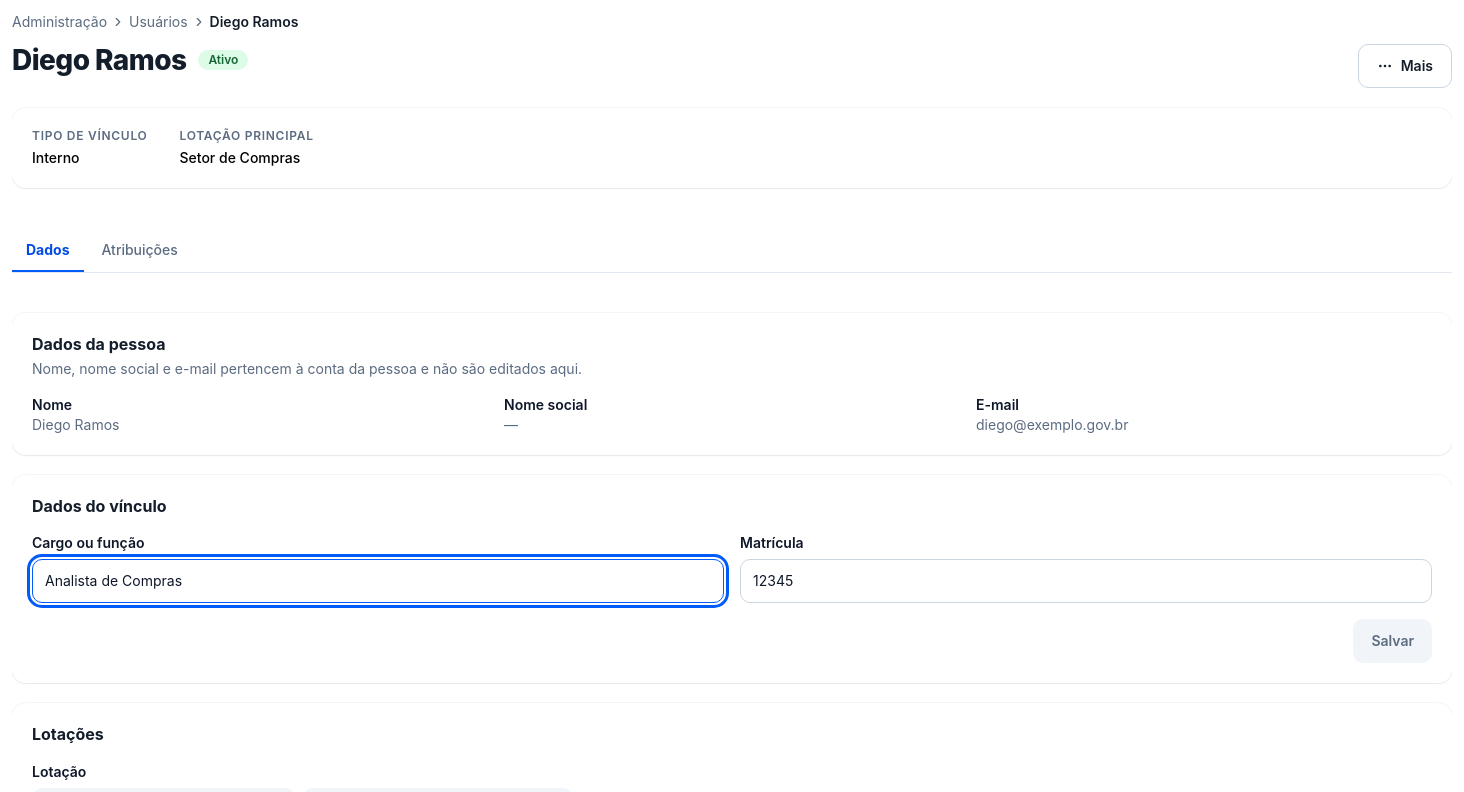
Test: SCR-029 · detalhe do usuário (US-092) › abas "Dados" e "Atribuições": as atribuições só carregam na segunda aba
Expected: the tab "Dados" is shown, [12,228,84,272]
Click the tab "Atribuições".
click(140, 250)  # box [88,228,192,272]
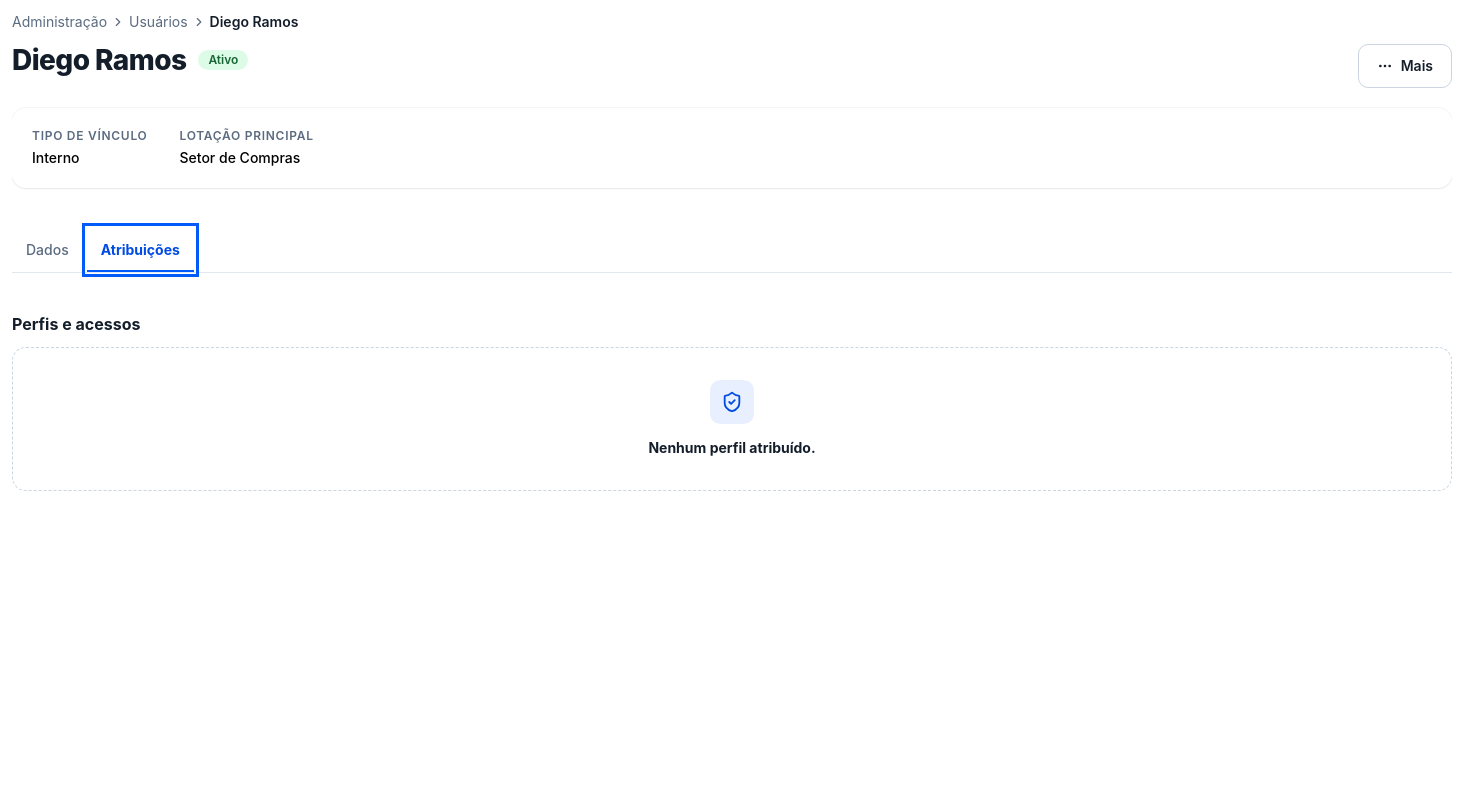
Now the text "Nenhum perfil atribuído." is shown, box [648,438,816,458]
